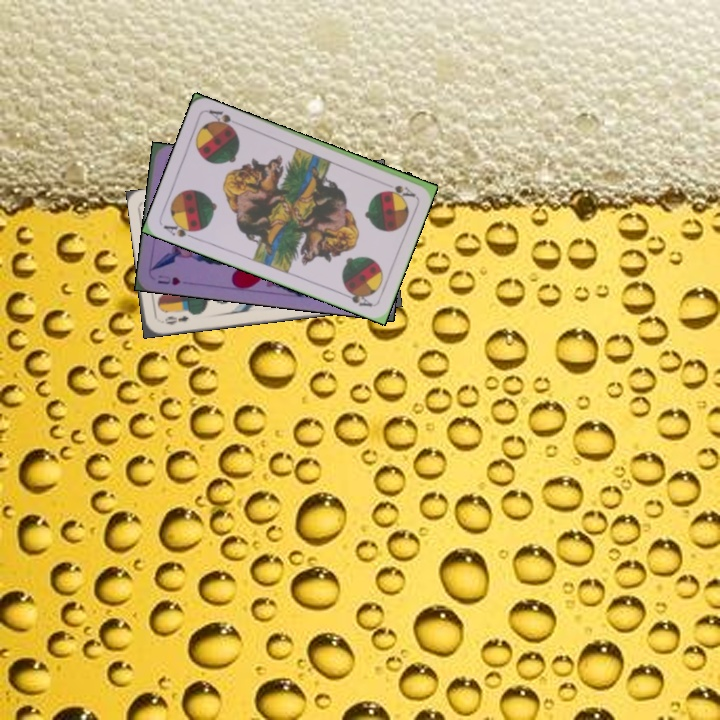EO: (161, 311, 191, 328)
HU: (153, 271, 183, 288)
SA: (159, 218, 201, 242), (390, 181, 417, 200)
